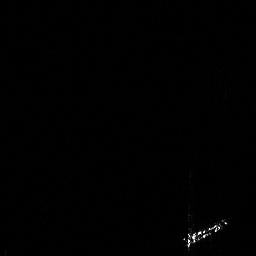ship: (181, 216, 229, 248)
